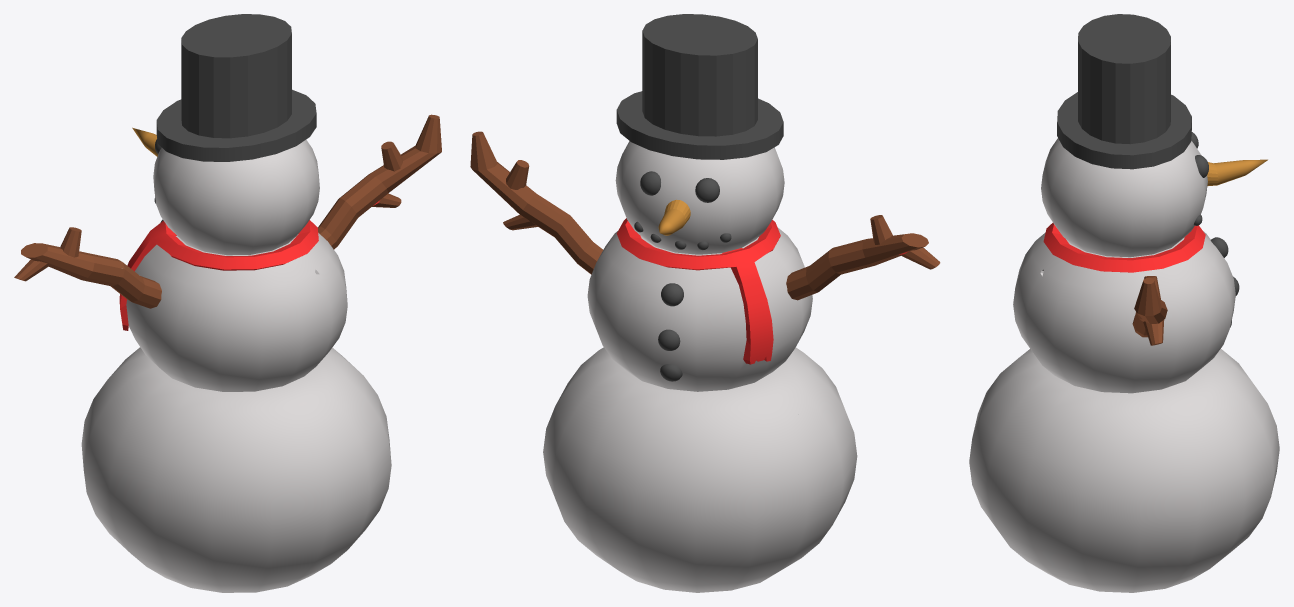
File: SnowMan_root.fbx
The picture shows the model from 3 angles, left to right: view 1: azimuth 30°, elevation 25°; view 2: azimuth 150°, elevation 25°; view 3: azimuth 270°, elevation 25°; orthographic projection.
Parts seen in each view (by area): view 1: SnowMan_sh_101, SnowMan_sh_70, SnowMan_sh_55, SnowMan_sh_39, SnowMan_sh_14, SnowMan_sh_75, SnowMan_sh_46, SnowMan_sh_2, SnowMan_sh_134, SnowMan_sh_164, SnowMan_sh_58, SnowMan_sh_102 (+42 smaller); view 2: SnowMan_sh_68, SnowMan_sh_19, SnowMan_sh_145, SnowMan_sh_152, SnowMan_sh_49, SnowMan_sh_110, SnowMan_sh_34, SnowMan_sh_59, SnowMan_sh_60, SnowMan_sh_27, SnowMan_sh_142, SnowMan_sh_91 (+44 smaller); view 3: SnowMan_sh_8, SnowMan_sh_41, SnowMan_sh_60, SnowMan_sh_16, SnowMan_sh_79, SnowMan_sh_80, SnowMan_sh_151, SnowMan_sh_64, SnowMan_sh_31, SnowMan_sh_159, SnowMan_sh_88, SnowMan_sh_81 (+45 smaller).
Part boxes in pixels (x1,y1,x2,y2): SnowMan_sh_101: (171,237,268,331); SnowMan_sh_70: (229,496,327,579); SnowMan_sh_55: (258,375,334,497); SnowMan_sh_39: (202,34,290,106); SnowMan_sh_14: (181,176,266,244); SnowMan_sh_75: (140,440,248,519); SnowMan_sh_46: (151,317,221,412); SnowMan_sh_2: (176,98,259,175); SnowMan_sh_134: (204,429,280,510); SnowMan_sh_164: (251,96,304,198); SnowMan_sh_58: (186,371,259,449); SnowMan_sh_102: (139,492,240,551); SnowMan_sh_68: (584,450,707,549); SnowMan_sh_19: (597,361,697,450); SnowMan_sh_145: (686,378,767,470); SnowMan_sh_152: (677,276,757,363); SnowMan_sh_49: (623,62,712,154); SnowMan_sh_110: (677,221,773,291); SnowMan_sh_34: (736,354,798,462); SnowMan_sh_59: (648,143,728,215); SnowMan_sh_60: (545,390,587,512); SnowMan_sh_27: (656,523,737,588); SnowMan_sh_142: (617,285,695,371); SnowMan_sh_91: (650,41,714,130); SnowMan_sh_8: (1095,133,1188,252); SnowMan_sh_41: (1042,218,1128,337); SnowMan_sh_60: (1195,419,1269,540); SnowMan_sh_16: (1133,433,1207,535); SnowMan_sh_79: (1103,252,1197,350); SnowMan_sh_80: (1070,492,1165,562); SnowMan_sh_151: (1082,33,1163,130); SnowMan_sh_64: (1061,122,1125,224); SnowMan_sh_31: (1134,326,1203,433); SnowMan_sh_159: (1058,331,1143,384); SnowMan_sh_88: (1029,443,1101,518); SnowMan_sh_81: (1067,549,1171,588).
Bounding box in the file's own units: 531 × 592 × 322.
